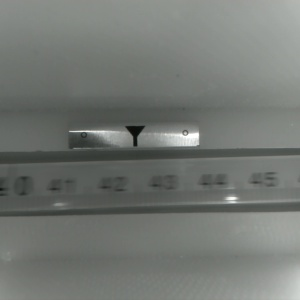finger: (123, 126, 145, 145)
